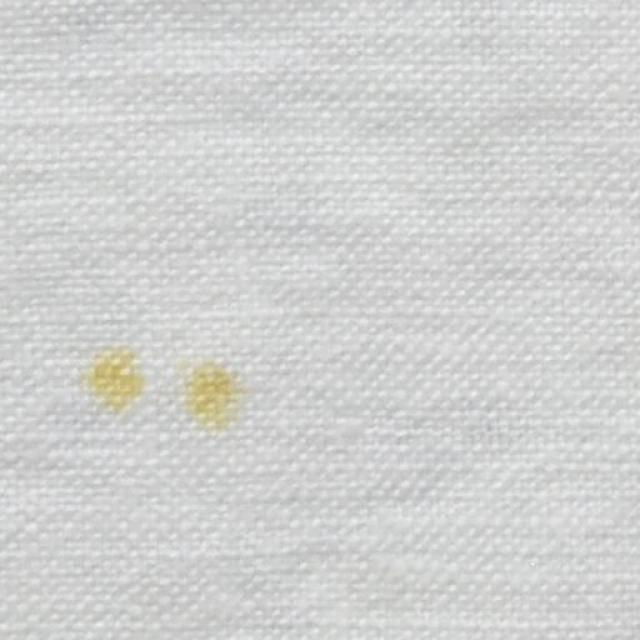Stain: (183, 362, 240, 431), (86, 348, 145, 413)
